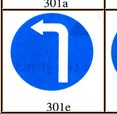Turn_left: (10, 12, 96, 92)
